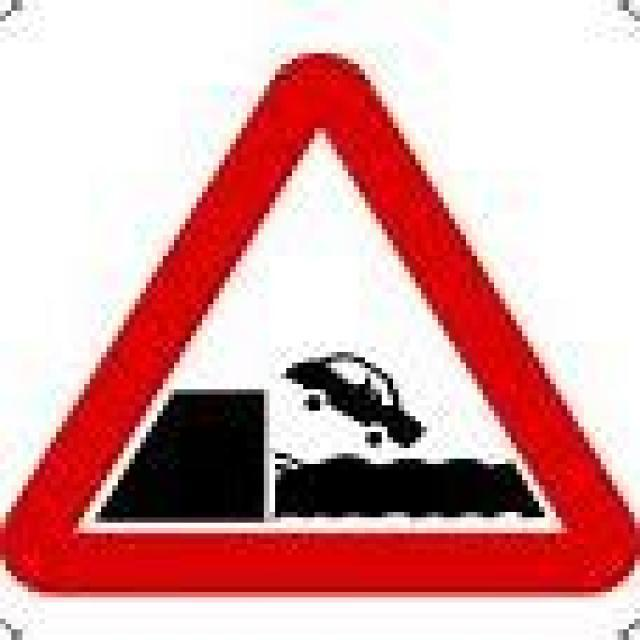quay side or river bank: (29, 56, 607, 596)
